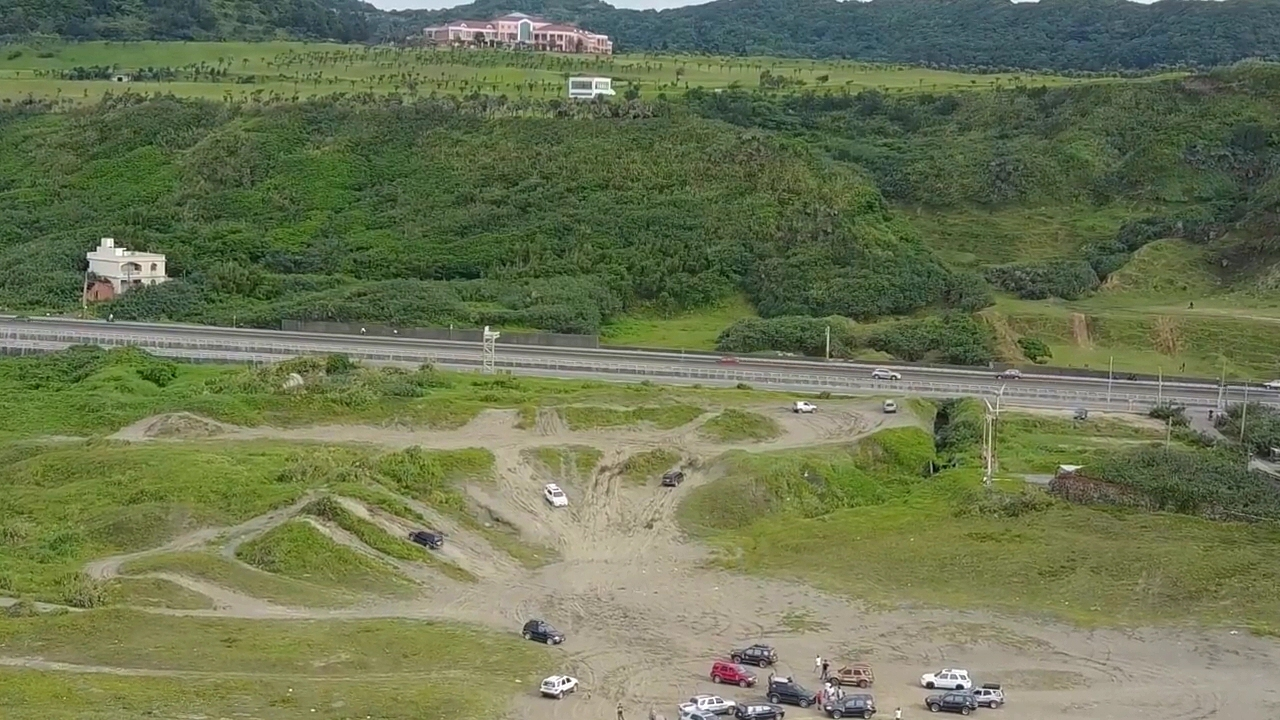araba: (678, 689, 739, 720), (821, 689, 878, 719), (923, 687, 978, 715), (709, 659, 758, 689), (918, 665, 977, 689), (539, 669, 581, 702), (734, 698, 790, 720), (520, 617, 562, 646), (732, 642, 781, 666), (406, 527, 448, 551), (972, 682, 1007, 707), (545, 481, 570, 507), (792, 398, 822, 415), (992, 367, 1026, 382), (662, 467, 686, 488), (872, 365, 901, 379), (882, 398, 897, 413)
insan: (612, 701, 630, 720), (820, 657, 830, 681), (811, 655, 821, 671), (892, 708, 902, 720)
